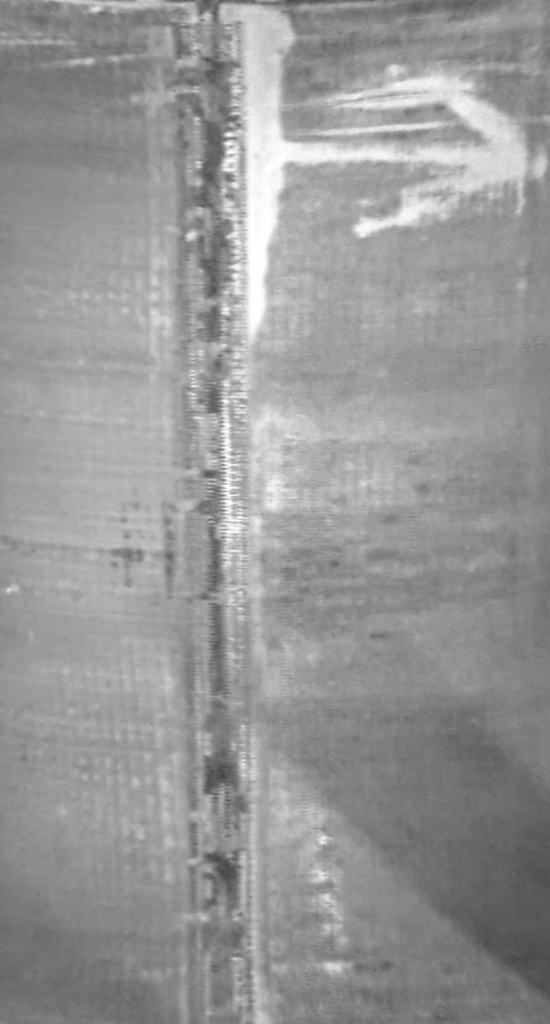splice: (178, 1, 265, 1023)
